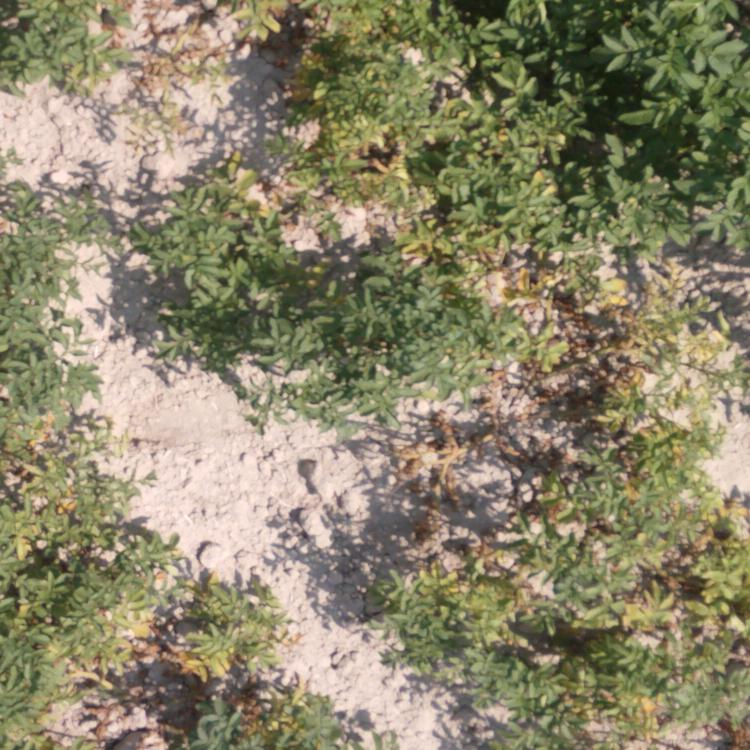healthy: (550, 1, 738, 237), (297, 304, 469, 416), (139, 224, 276, 356), (290, 249, 362, 297)
stressed: (393, 560, 749, 750), (548, 248, 750, 564), (289, 7, 551, 235), (1, 495, 158, 746), (172, 575, 346, 750), (1, 193, 99, 492), (373, 236, 539, 300), (5, 1, 115, 95), (164, 157, 271, 214), (423, 431, 515, 487), (144, 27, 194, 112), (207, 1, 278, 56)
